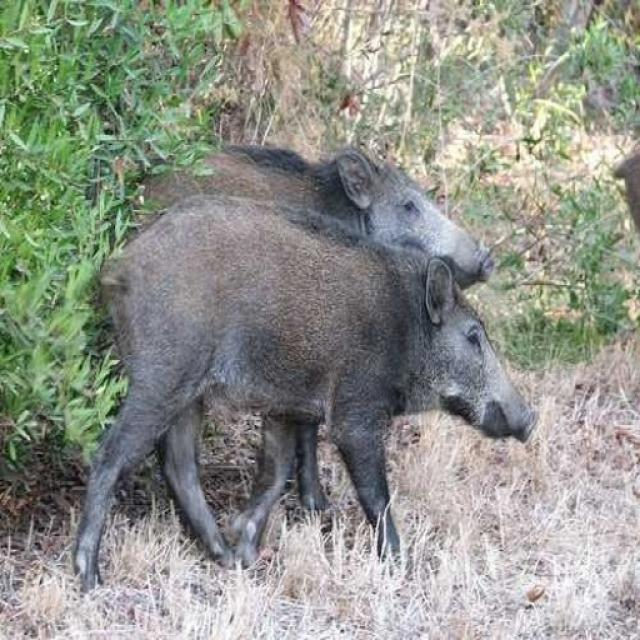pig: (113, 105, 568, 632), (188, 104, 506, 307)
